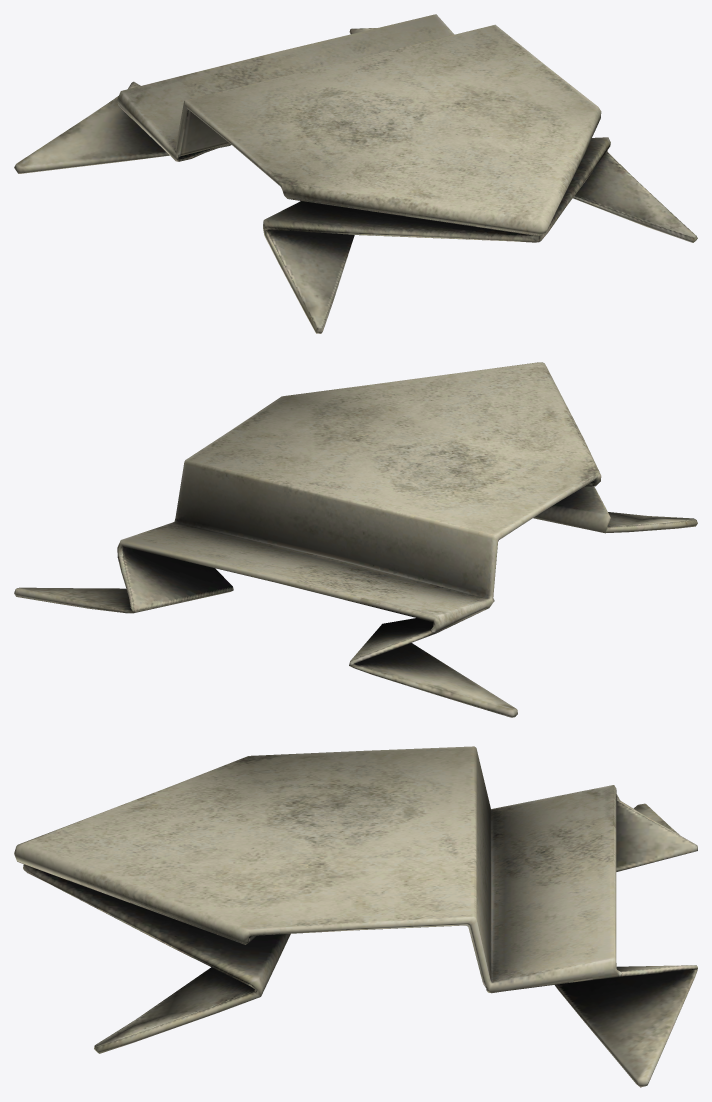
Rendered from brandon_origami01.dae.
3 renders of one model, top to bottom at view 1: azimuth 30°, elevation 25°; view 2: azimuth 150°, elevation 25°; view 3: azimuth 270°, elevation 25°, orthographic. The views are drawn at different scales.
Parts seen in each view (by area): view 1: polySurface11; view 2: polySurface11; view 3: polySurface11.
Part boxes in pixels (x1,y1,x2,y2): polySurface11: (14, 14, 697, 333); polySurface11: (14, 362, 697, 717); polySurface11: (14, 746, 697, 1087).
Size of the model in its own units: 0.287 by 0.0573 by 0.3001.
